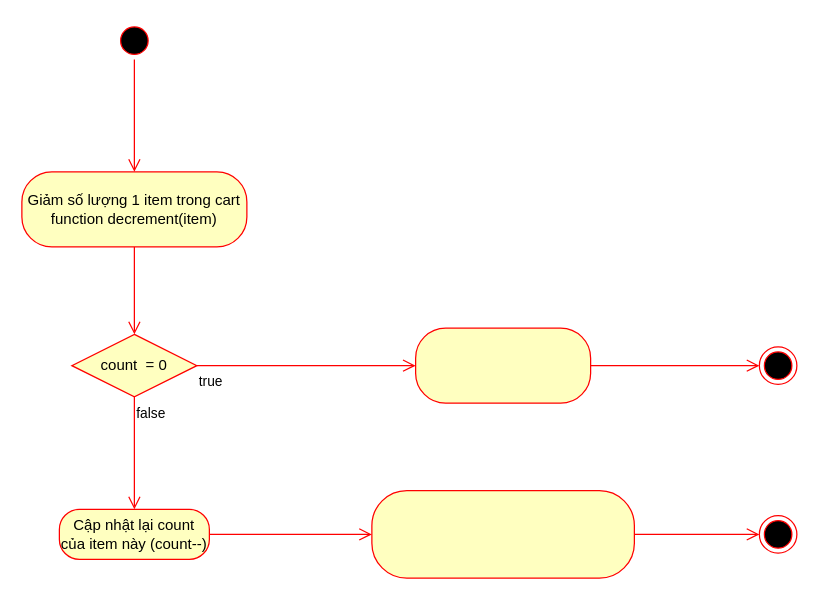
The diagram is 819 pixels wide and 600 high, and some of its shapes have lost their labels. The centre of each missing label's shape, as x and y in pixels:
"Cập nhật lại tổng số tiền của cart function getTotalCartItemsPrice()" goes at pixel 502 533.
"Xóa 1 item trong cart function pop(item)" goes at pixel 502 365.
